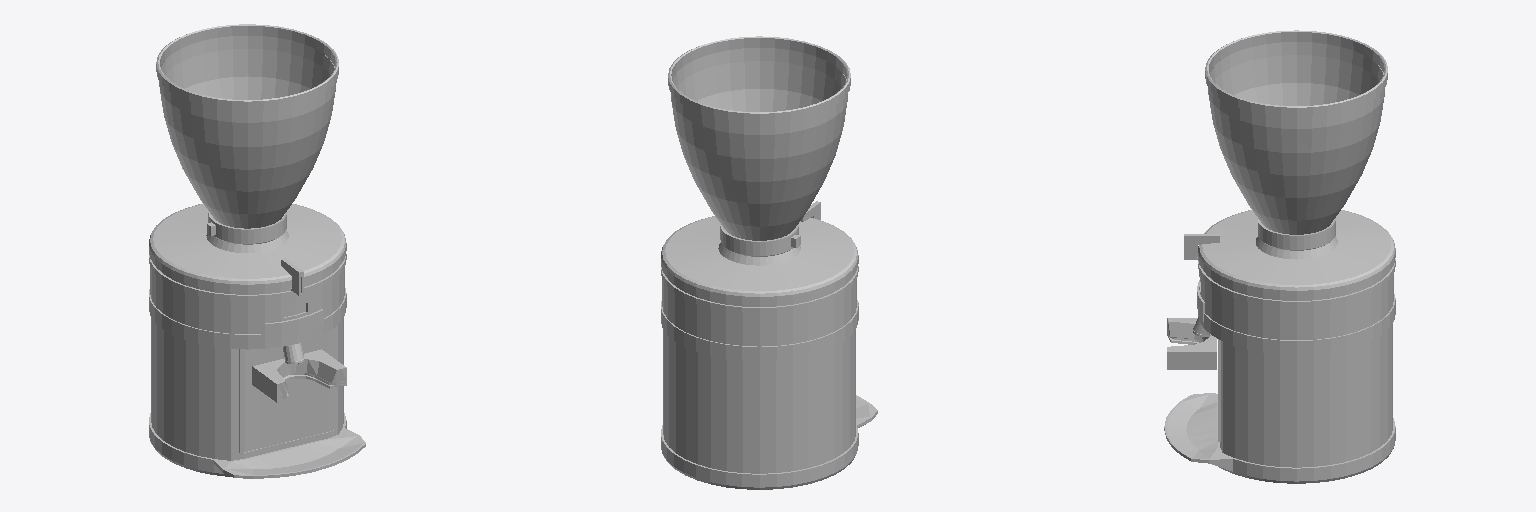
File: grinder.obj
3 renders of one model, left to right at view 1: azimuth 30°, elevation 25°; view 2: azimuth 150°, elevation 25°; view 3: azimuth 270°, elevation 25°, orthographic.
Visible parts, largest first — view 1: beans_1; view 2: beans_1; view 3: beans_1.
Boxes of the visible parts, x1,y1,x2,y2 form: beans_1: [149, 24, 365, 478]; beans_1: [661, 36, 877, 489]; beans_1: [1164, 30, 1395, 483].
Size of the model in its own units: 181 by 378 by 211.